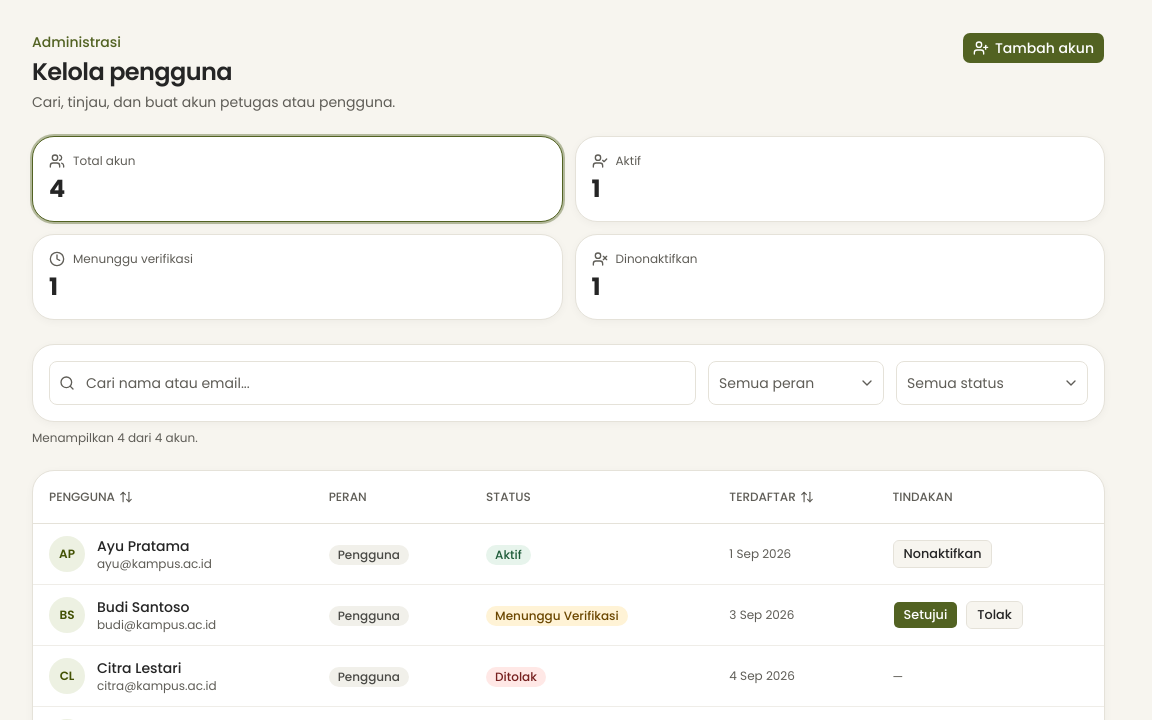
Scenario: AdminUsers (kelola akun) › mencari berdasarkan email dan memfilter peran serta status
Type "citra@kampus.ac.id" into the search field labelled "Cari nama atau email".
click(372, 383); type("citra@kampus.ac.id")  # box [49,361,696,405]
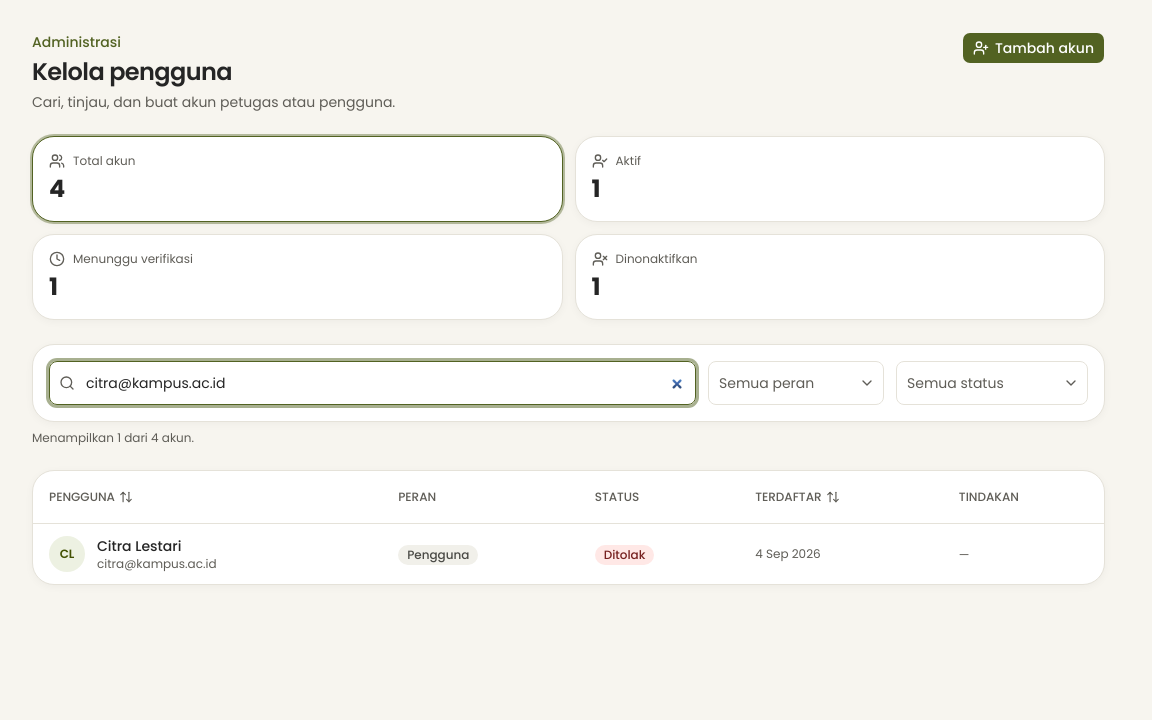
Expected: the text "Citra Lestari" is shown, [97,536,181,556]
Expected: the text "Menampilkan 1 dari 4 akun." is shown, [32,429,194,446]
Clear the search field named "Cari nama atau email" at (372, 383), box [49,361,696,405]
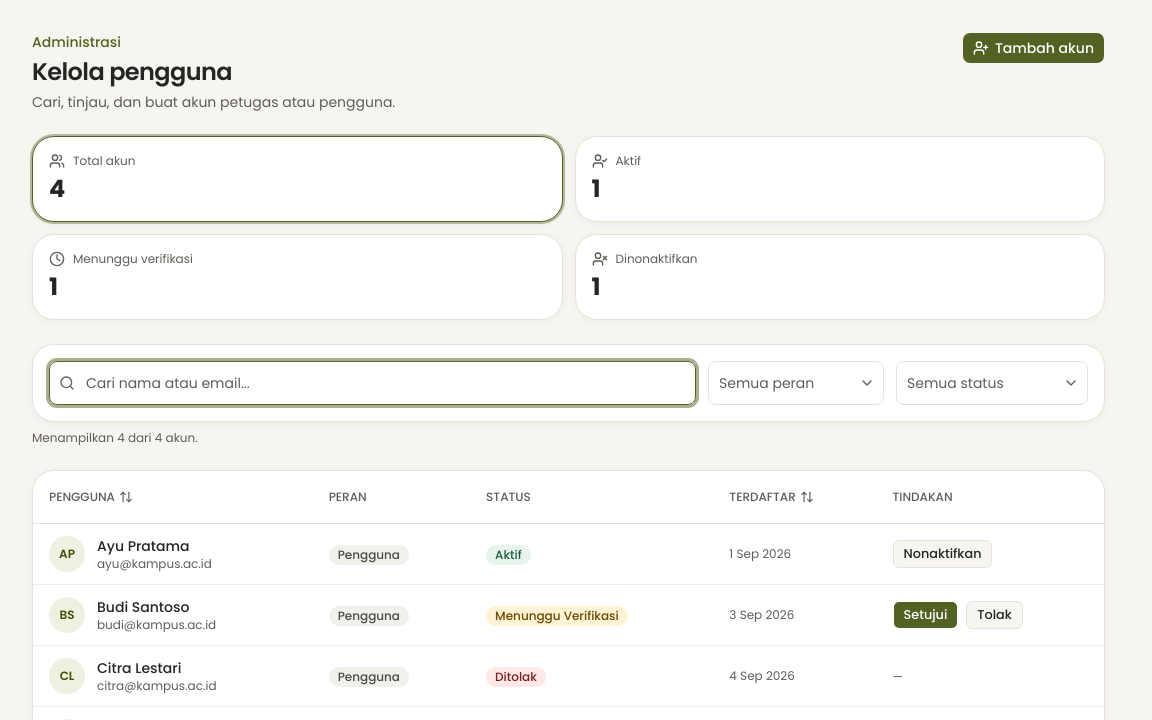
Click the dropdown named "Filter peran".
click(796, 383)  # box [708,361,884,405]
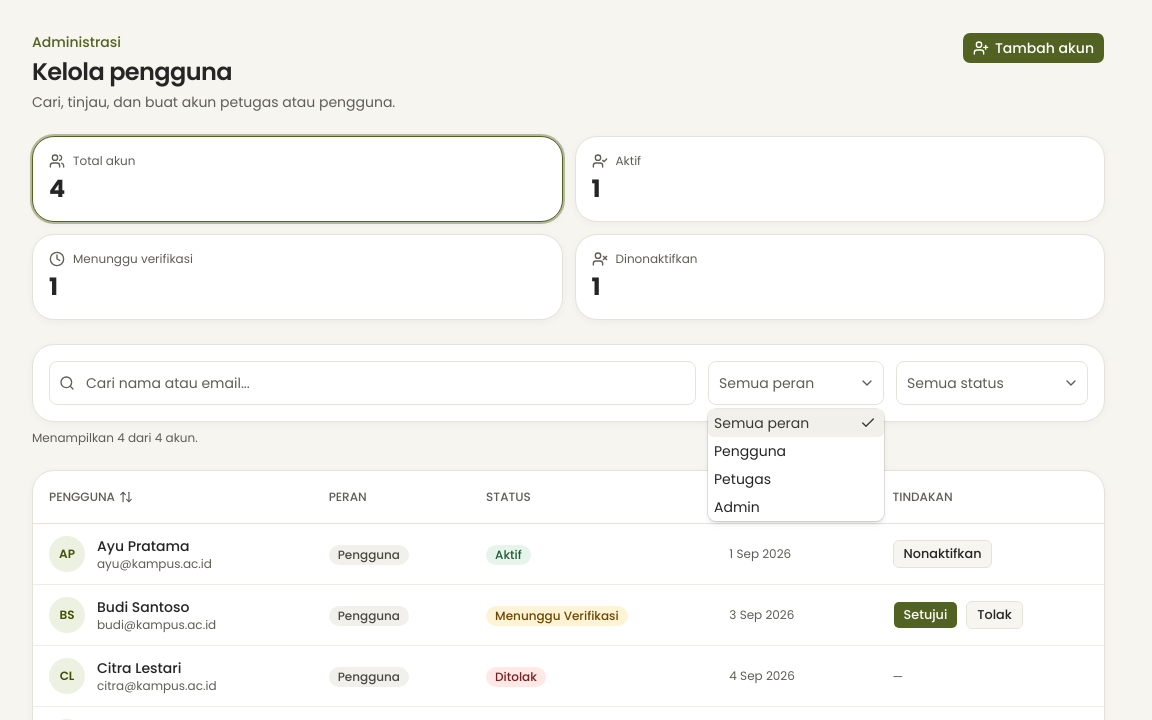
Click the option "Pengguna".
click(750, 451)  # box [714,441,786,461]
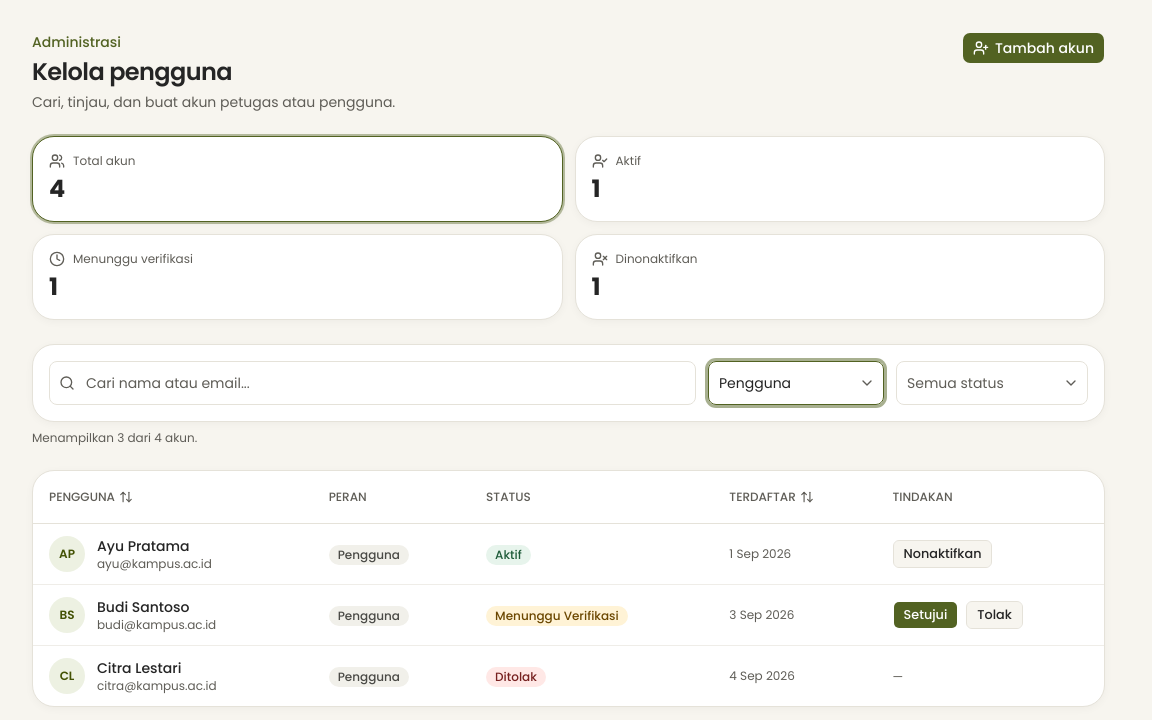
Click the dropdown named "Filter status".
click(992, 383)  # box [896,361,1088,405]
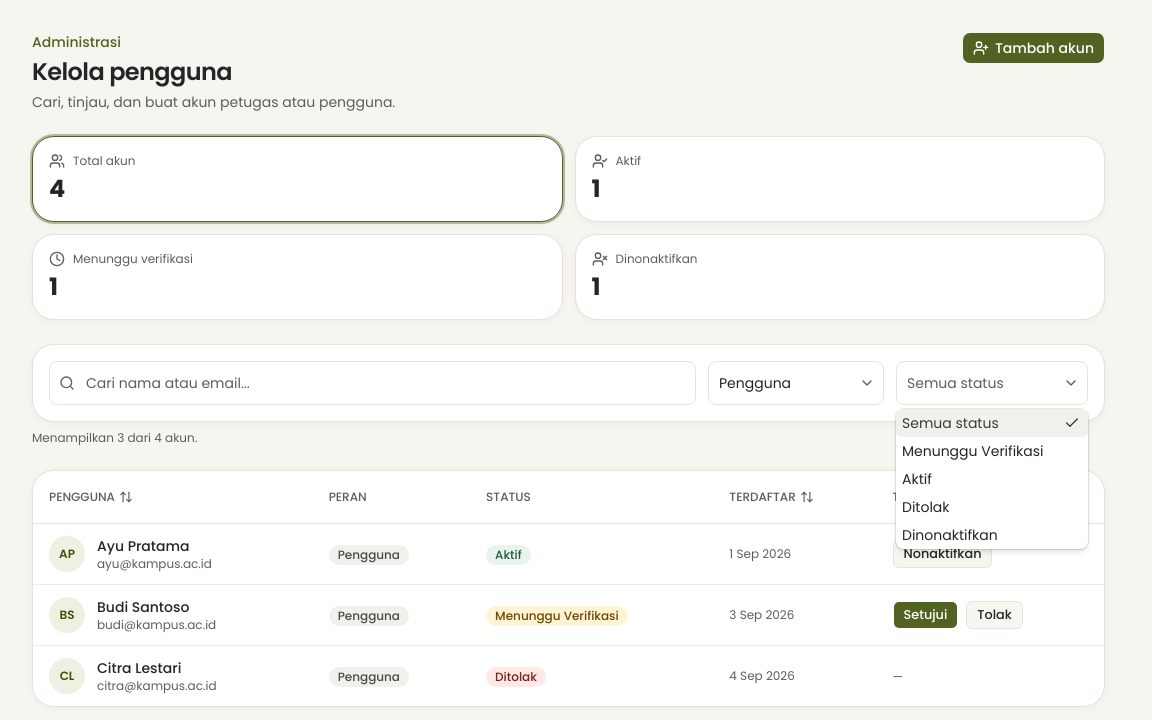
Click the option "Ditolak".
click(926, 507)  # box [902,497,950,517]
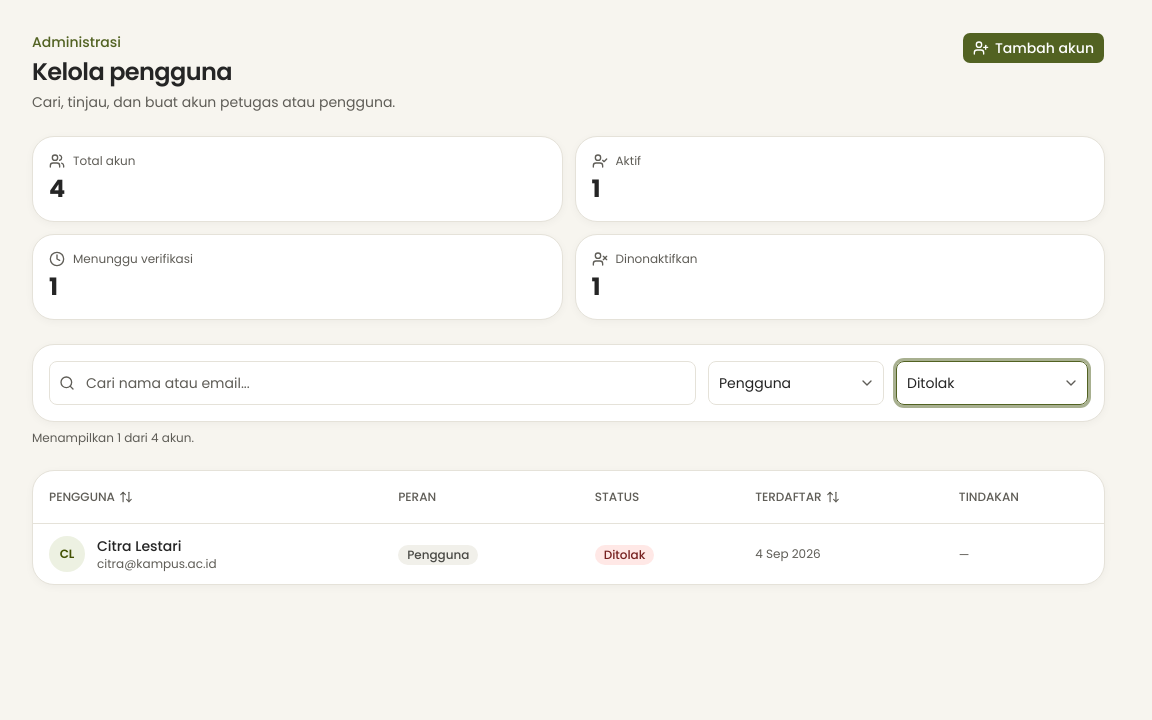
Expected: the text "Citra Lestari" is shown, [97,536,181,556]
Expected: the text "Menampilkan 1 dari 4 akun." is shown, [32,429,194,446]
Expected: the text "Ayu Pratama" is gone
